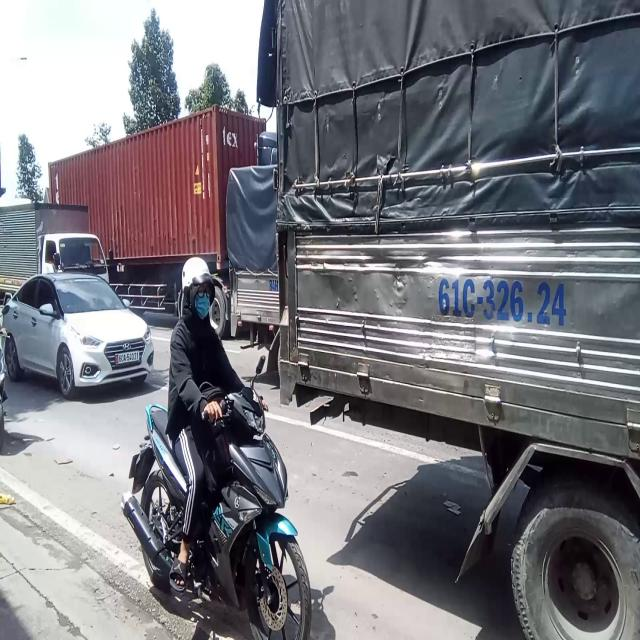bien_trang: (116, 350, 139, 364)
